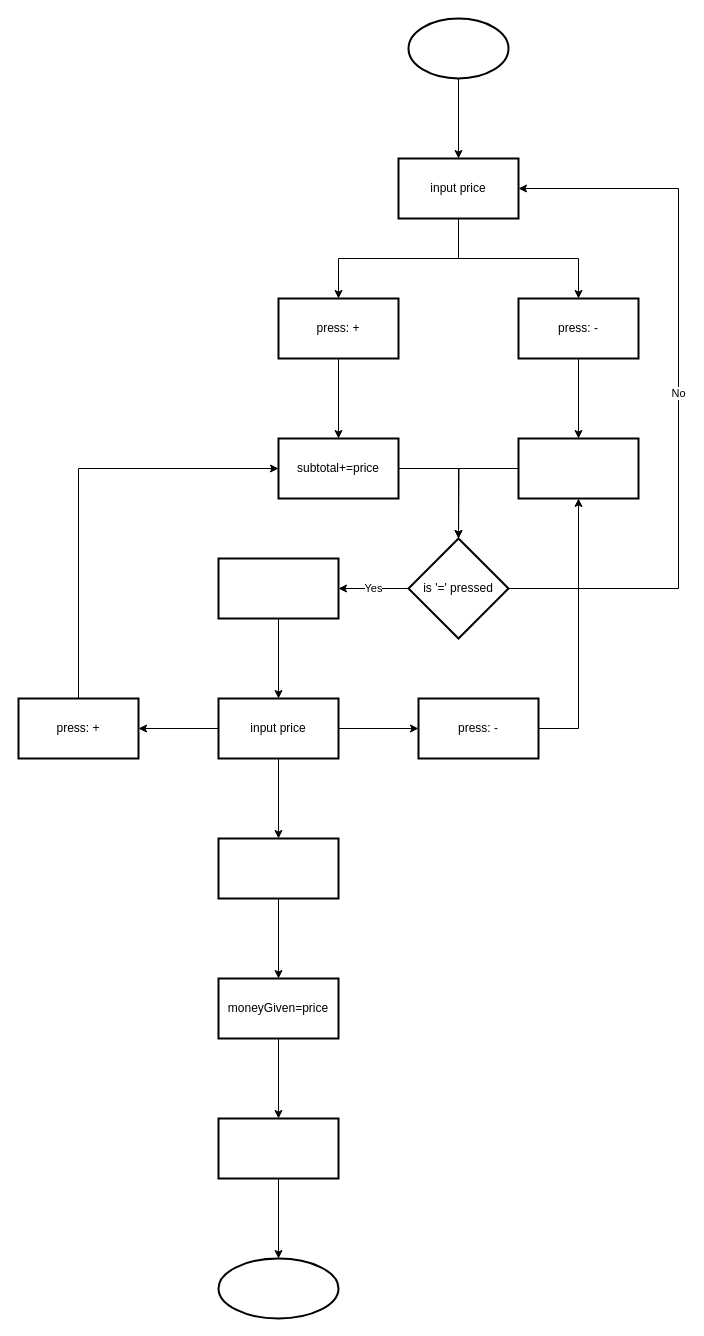
Some shapes in this 704 by 1336 pixel diagram are drawn without their labels. The shapes that lost their labels are listed below. From the top down, each one's centre as x and y in pixels, then its label:
[578,468]: subtotal-=price
[278,588]: print subtotal
[278,868]: press: 'Enter'
[278,1148]: change=moneyGiven-subtotal
